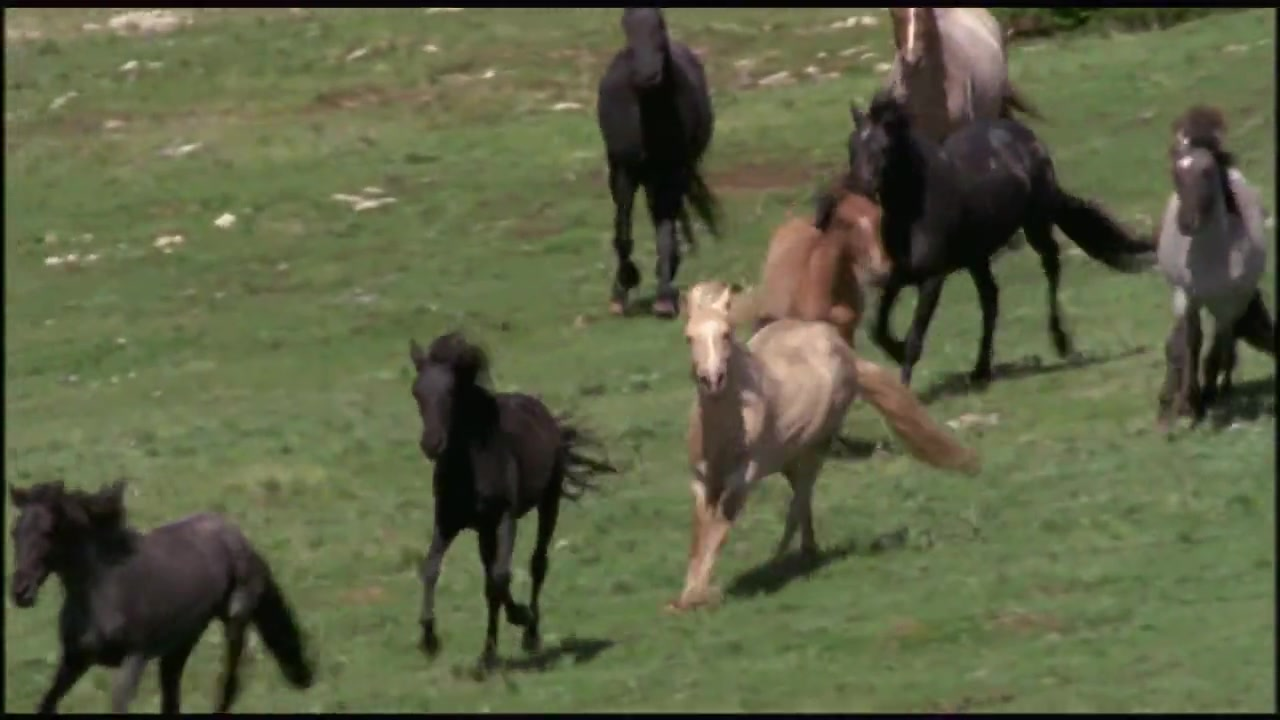horse: (407, 331, 622, 684)
